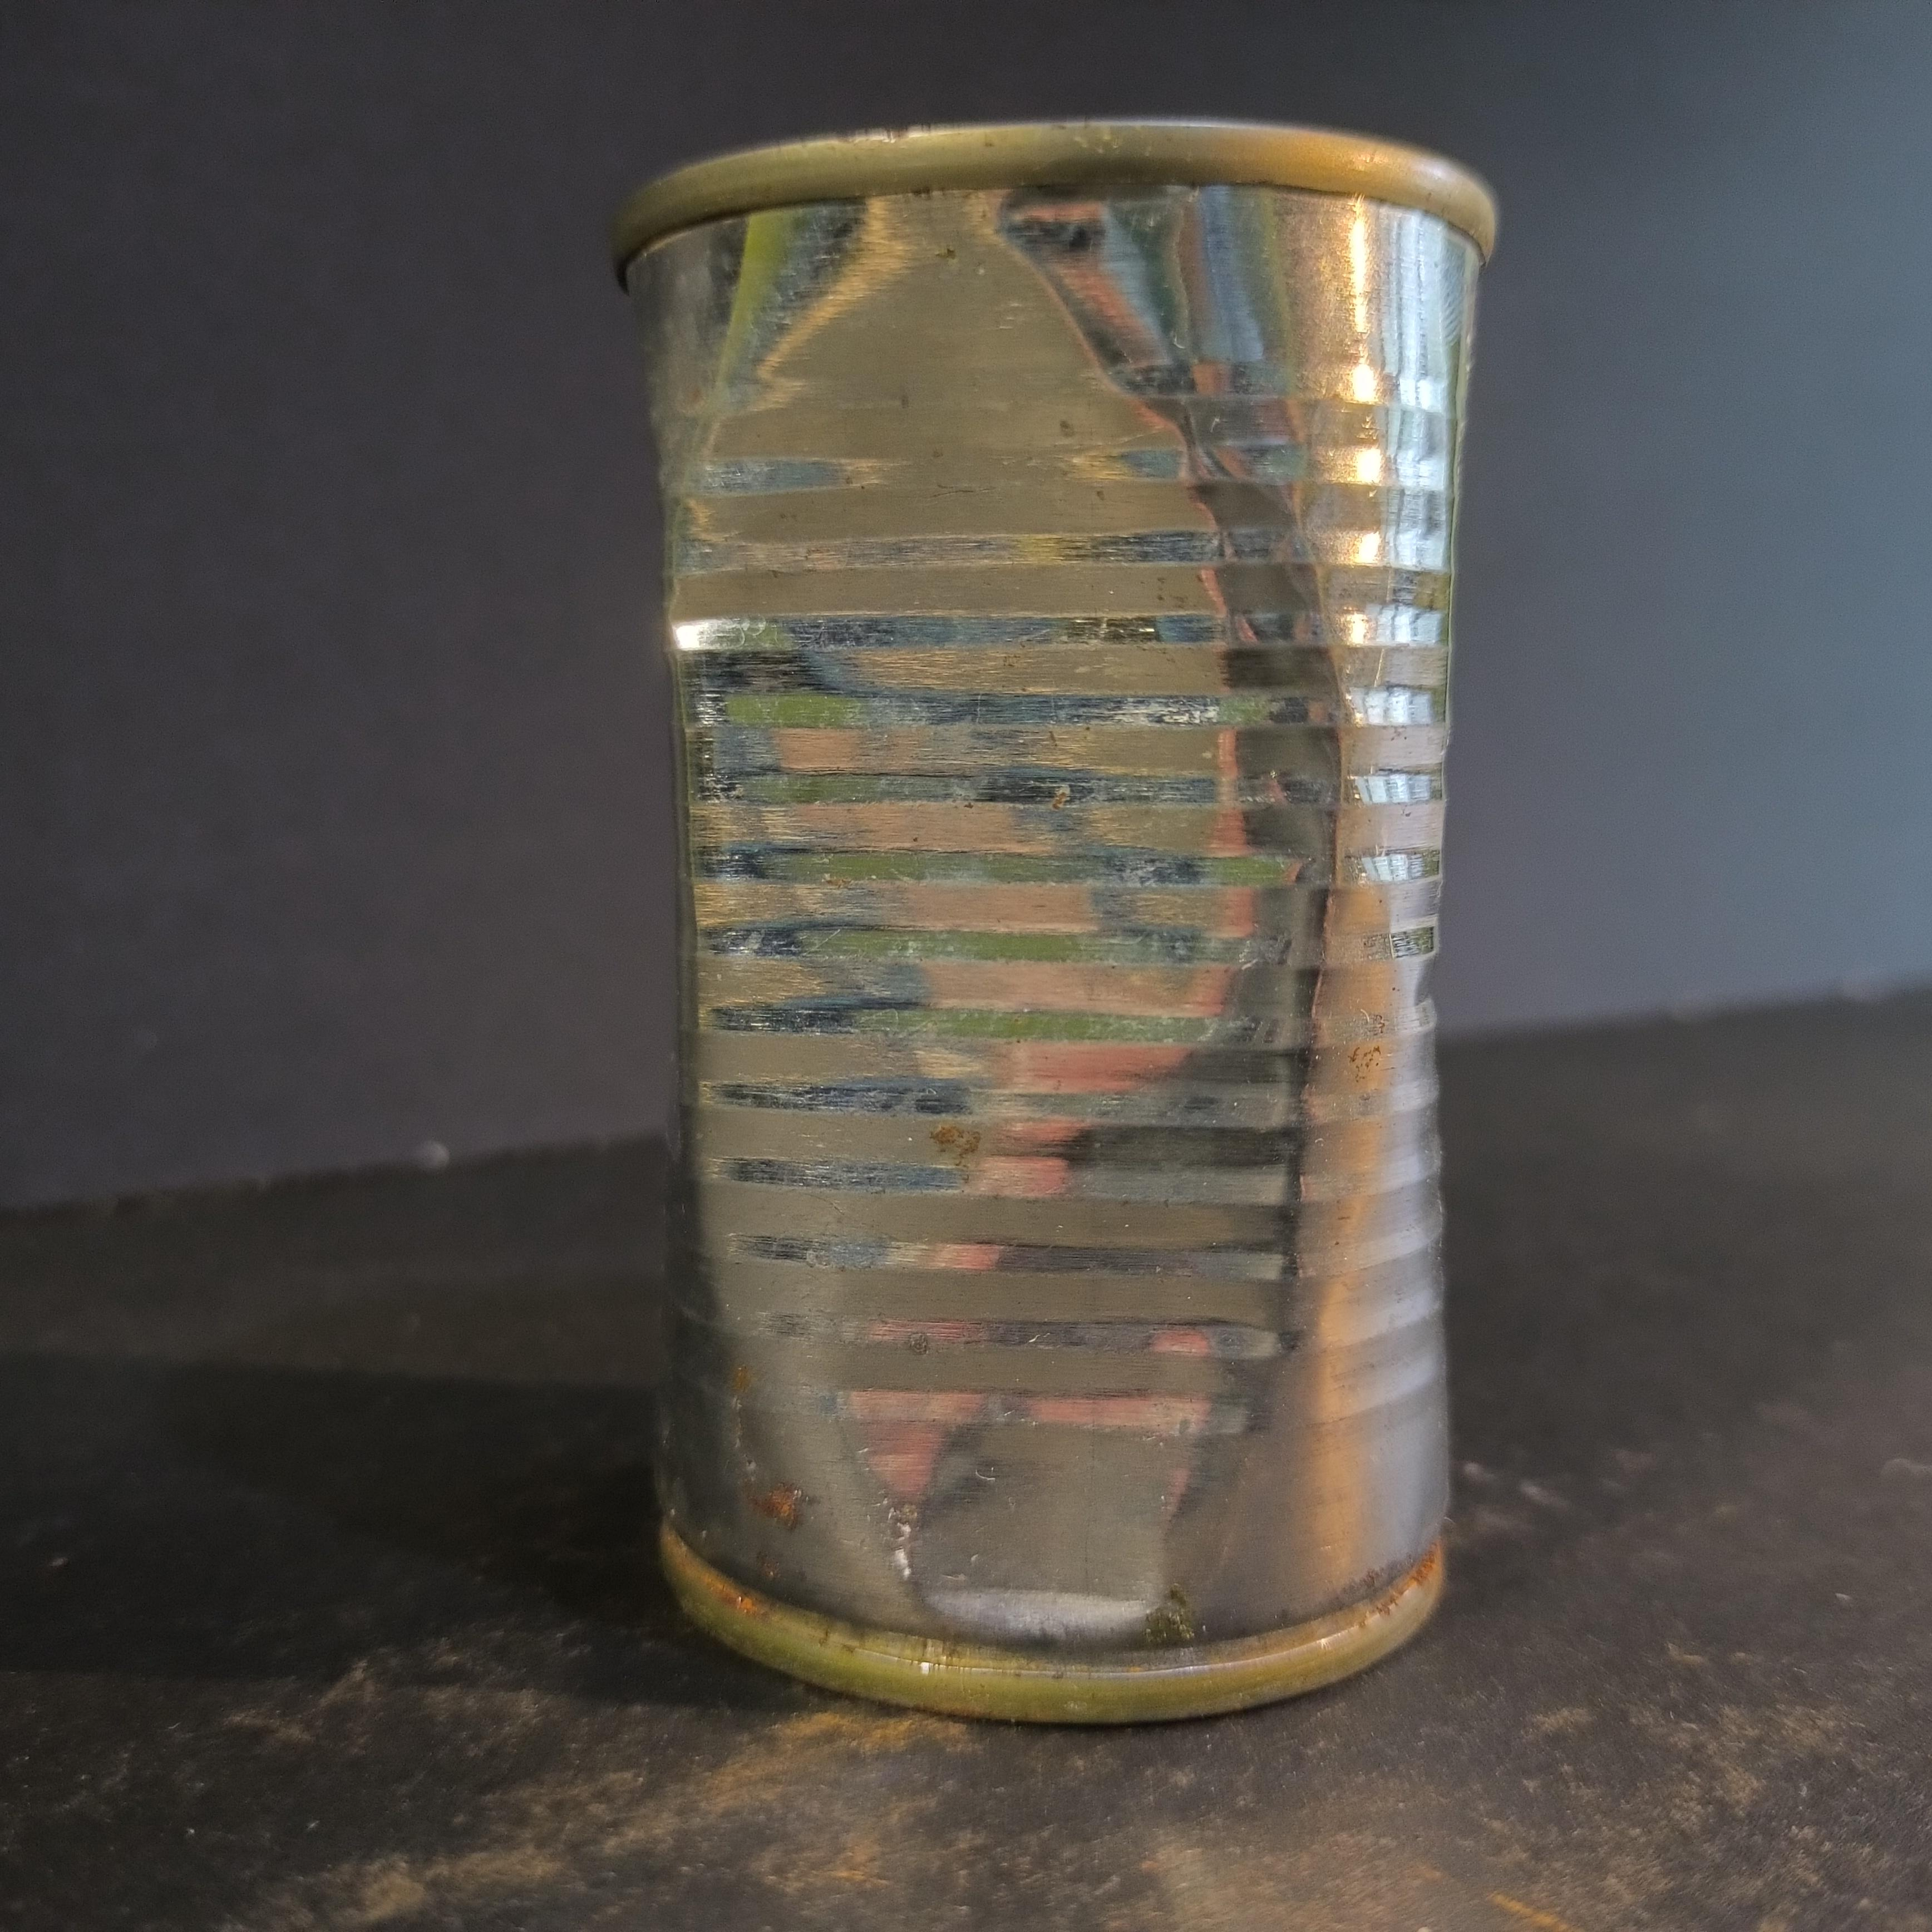Minor Defect: (616, 120, 1500, 1706)
